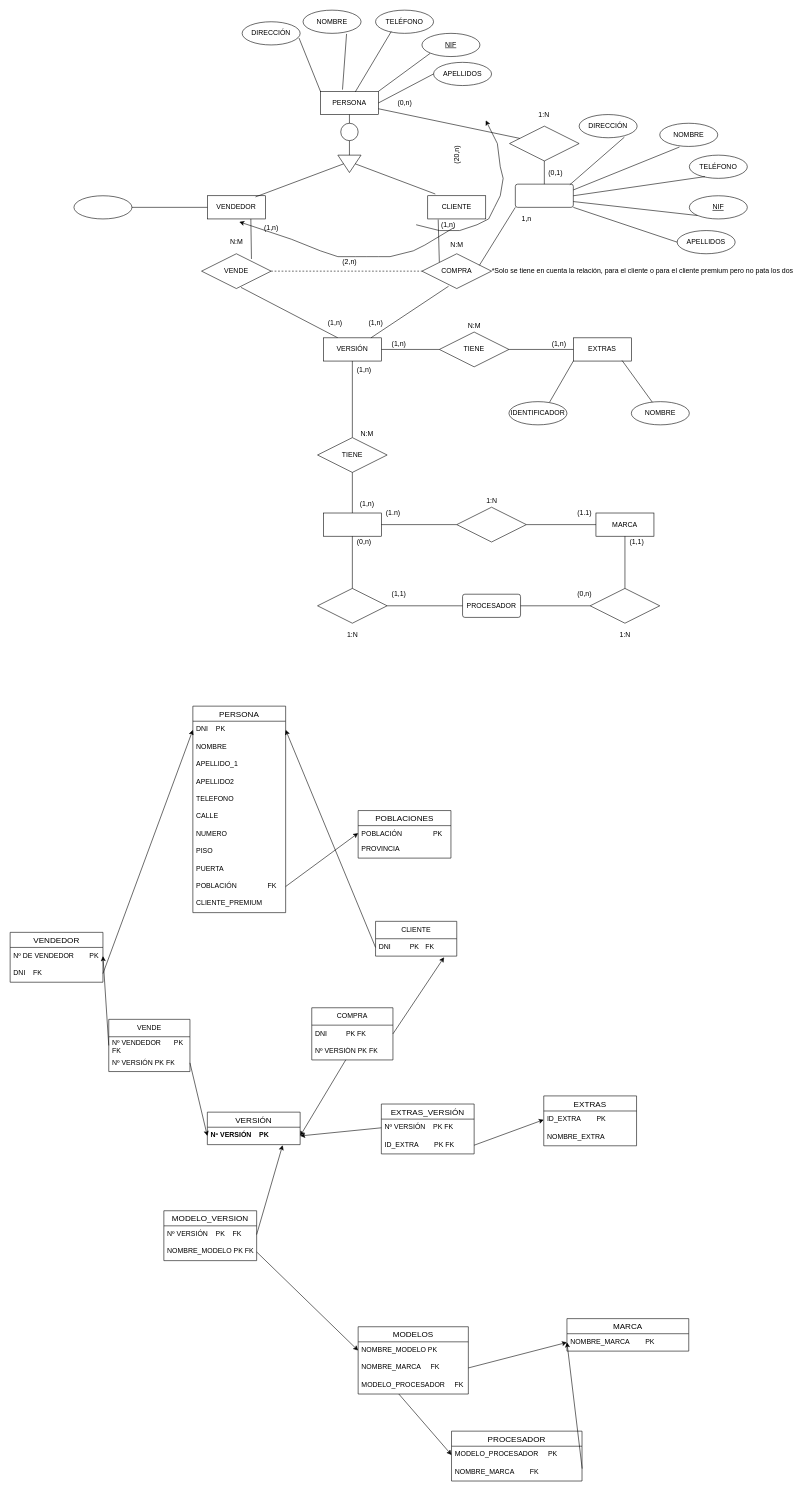
The diagram is 809 pixels wide and 1493 high, and some of its shapes have lost their labels. Here are the shapes that lost their labels. From the top down, the centre of each, then its label:
point 544,143: ADQUIERE STATUS
point 102,207: Nº DE VENDEDOR
point 544,195: CLIENTE PREMIUM
point 352,524: MODELO
point 491,524: PERTENECE_A
point 352,605: MONTA
point 625,605: FABRICA
